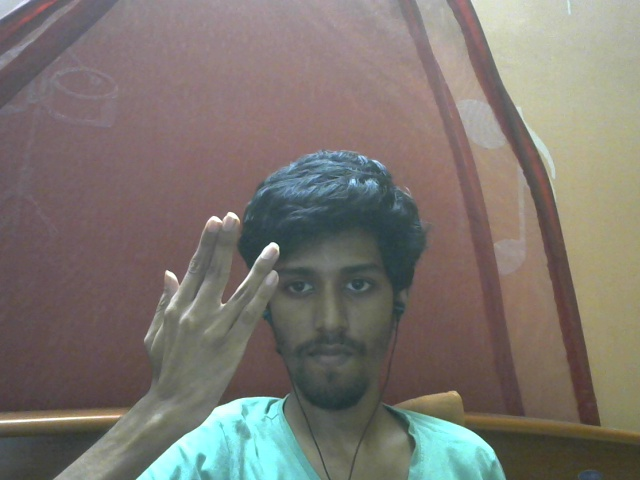LiveLong: (144, 210, 278, 412)
